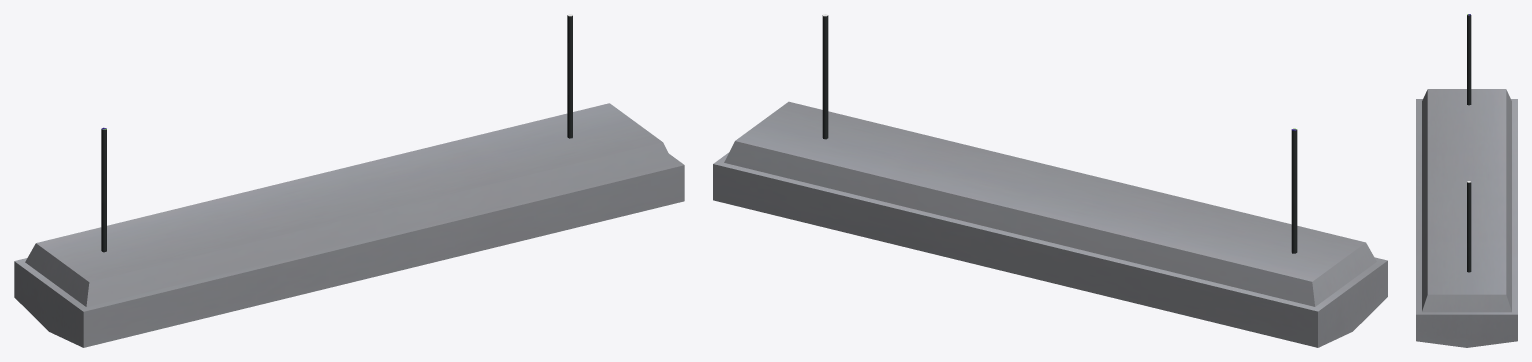
The model's file is FlorescentLamp.FBX.
3 renders of one model, left to right at view 1: azimuth 30°, elevation 25°; view 2: azimuth 150°, elevation 25°; view 3: azimuth 270°, elevation 25°, orthographic. The views are drawn at different scales.
Parts seen in each view (by area): view 1: Light1; view 2: Light1; view 3: Light1.
Boxes of the visible parts, x1,y1,x2,y2 form: Light1: (14,14,684,347); Light1: (713,14,1387,347); Light1: (1416,14,1517,347).
Bounding box in the file's own units: 174 × 51.94 × 34.75.
